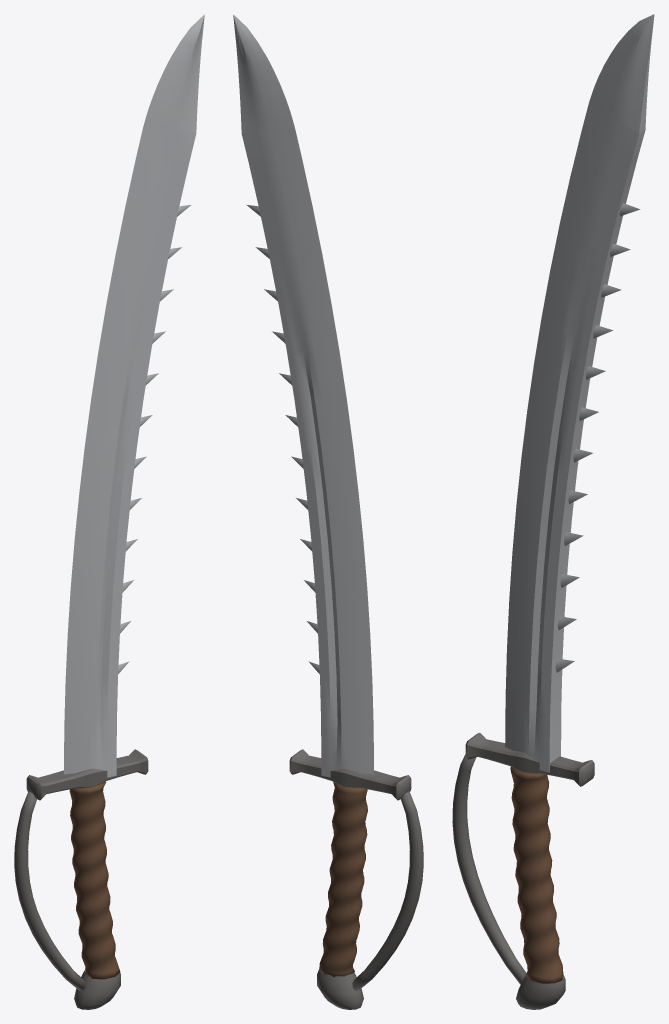
File: sawtooth-sabre.glb
3 renders of one model, left to right at view 1: azimuth 30°, elevation 25°; view 2: azimuth 150°, elevation 25°; view 3: azimuth 330°, elevation 25°, orthographic. The views are drawn at different scales.
Visible parts, largest first — view 1: sawtooth-sabre; view 2: sawtooth-sabre; view 3: sawtooth-sabre.
Part boxes in pixels (left/top/right/bottom): sawtooth-sabre: left=14, top=14, right=204, bottom=1009; sawtooth-sabre: left=233, top=14, right=423, bottom=1009; sawtooth-sabre: left=452, top=14, right=654, bottom=1009.
Bounding box in the file's own units: 0.4014 × 1.95 × 0.0697.
